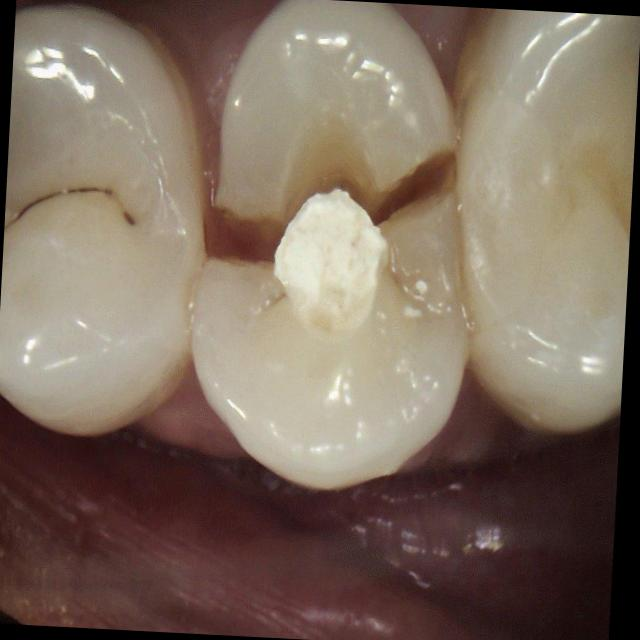Caries: (17, 191, 64, 220), (68, 188, 100, 193), (126, 213, 134, 224), (105, 190, 111, 195)
Crack: (205, 112, 457, 267)
Tooth: (192, 0, 469, 489), (0, 3, 207, 440), (456, 10, 640, 435)
